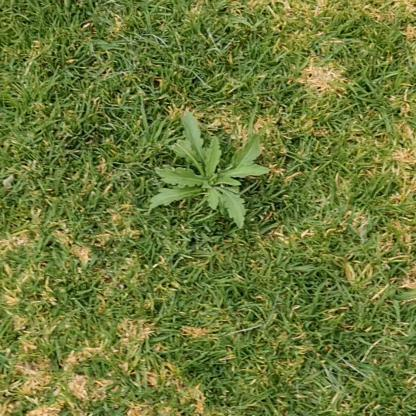Weeds: (150, 112, 272, 230)
